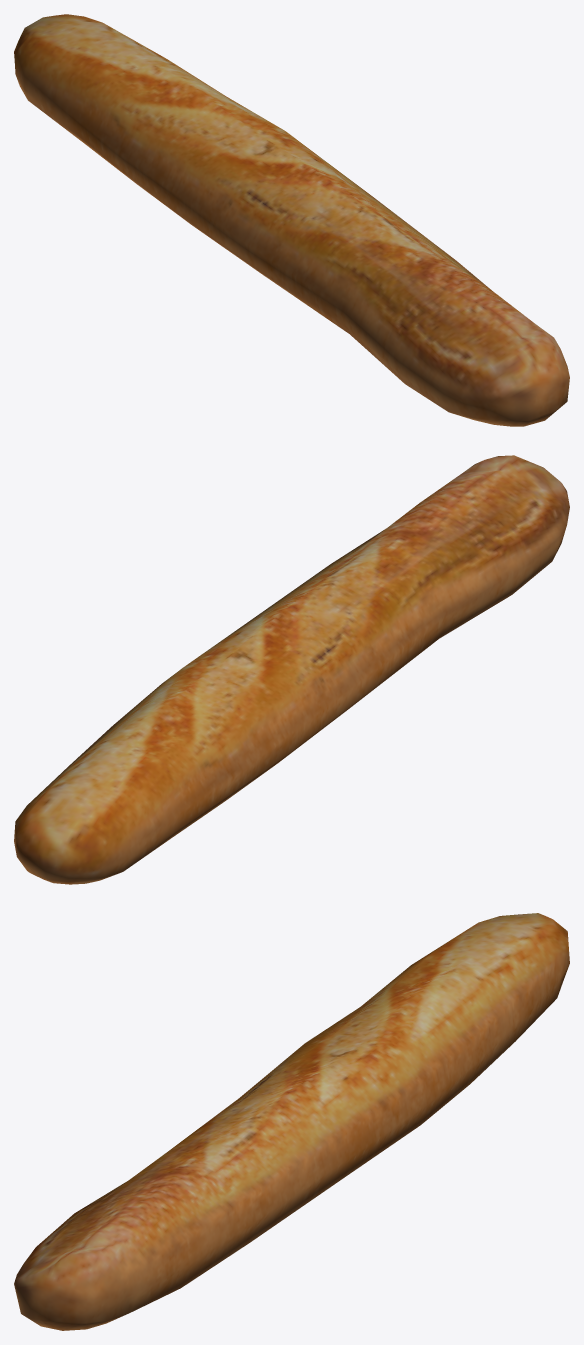
Rendered from SM_Baguette.fbx.
3 renders of one model, top to bottom at view 1: azimuth 30°, elevation 25°; view 2: azimuth 150°, elevation 25°; view 3: azimuth 330°, elevation 25°, orthographic.
Parts seen in each view (by area): view 1: SM_Baguette_LOD0; view 2: SM_Baguette_LOD0; view 3: SM_Baguette_LOD0.
Part boxes in pixels (x1,y1,x2,y2): SM_Baguette_LOD0: [14, 14, 569, 426]; SM_Baguette_LOD0: [14, 455, 569, 884]; SM_Baguette_LOD0: [14, 913, 569, 1330].
Bounding box in the file's own units: 9.73 × 62.63 × 5.97.
